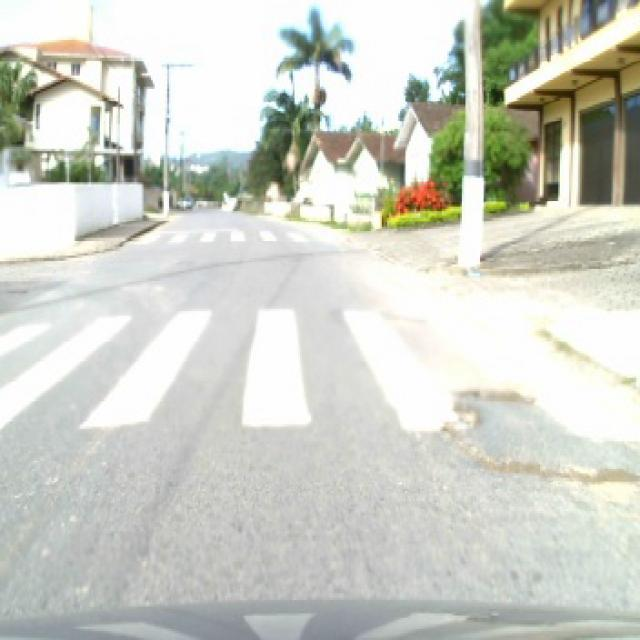Poth-hole: (436, 382, 636, 482)
